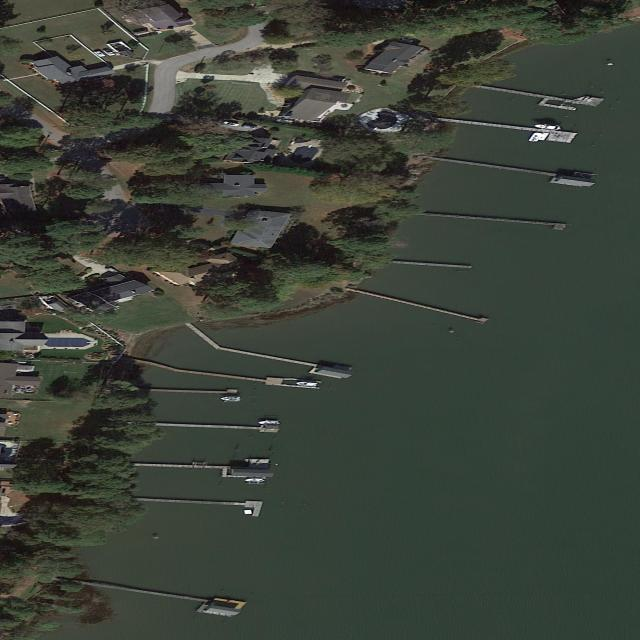ship: (529, 122, 564, 131), (527, 132, 545, 143), (295, 381, 321, 387), (255, 420, 282, 425), (244, 478, 269, 483), (220, 396, 243, 401)
small-vehicle: (220, 121, 242, 128), (93, 50, 108, 58), (397, 37, 417, 43), (102, 49, 116, 56), (104, 267, 119, 273), (241, 124, 258, 129)
